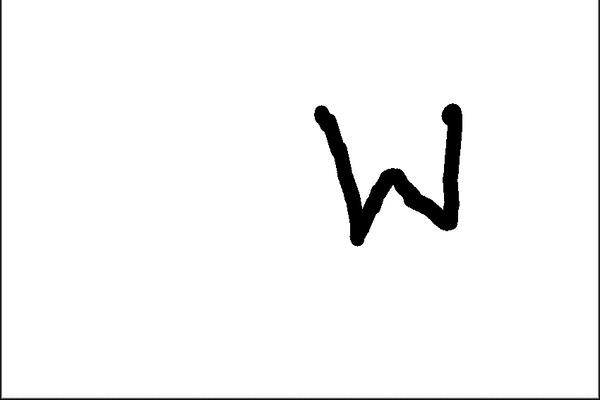w: (298, 87, 474, 263)
